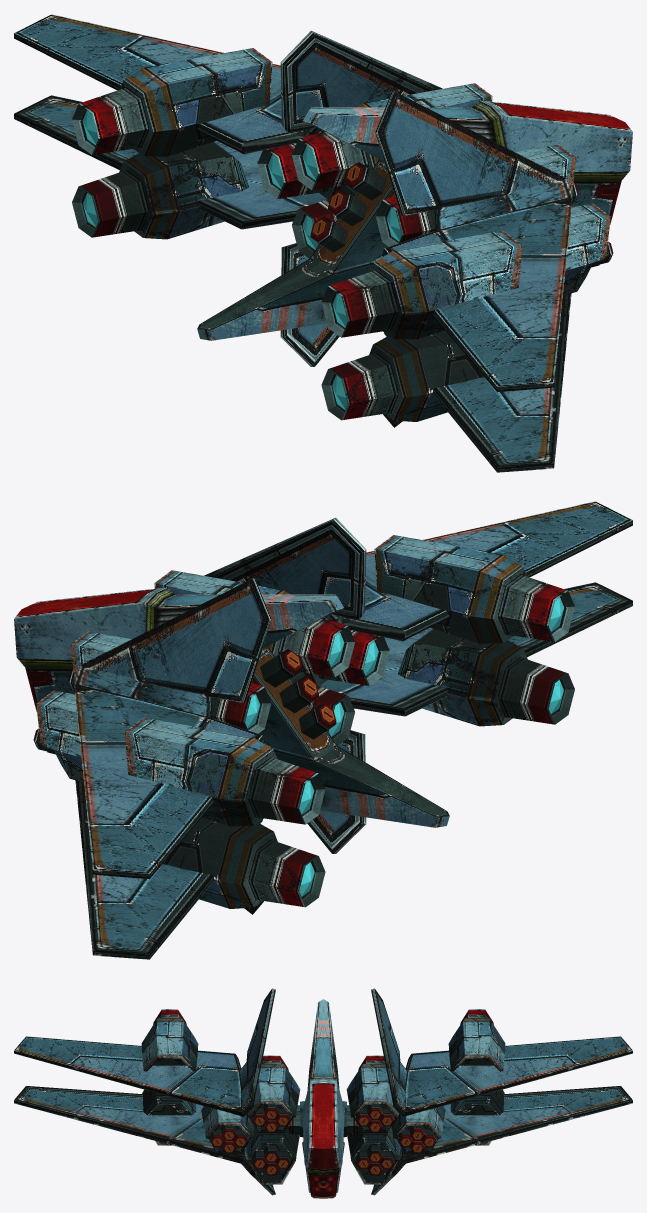
Rendered from drone_R.FBX.
3 views of the same model, one above another, from view 1: azimuth 30°, elevation 25°; view 2: azimuth 150°, elevation 25°; view 3: azimuth 270°, elevation 25° (orthographic). The views are drawn at different scales.
Visible parts, largest first — view 1: drone_R; view 2: drone_R; view 3: drone_R.
Boxes of the visible parts, left/top/right/bottom form: drone_R: left=14, top=14, right=632, bottom=472; drone_R: left=14, top=501, right=632, bottom=959; drone_R: left=14, top=988, right=632, bottom=1198.
Bounding box in the file's own units: 209 × 424 × 157.
Materials: 1 (1 with a texture image).
